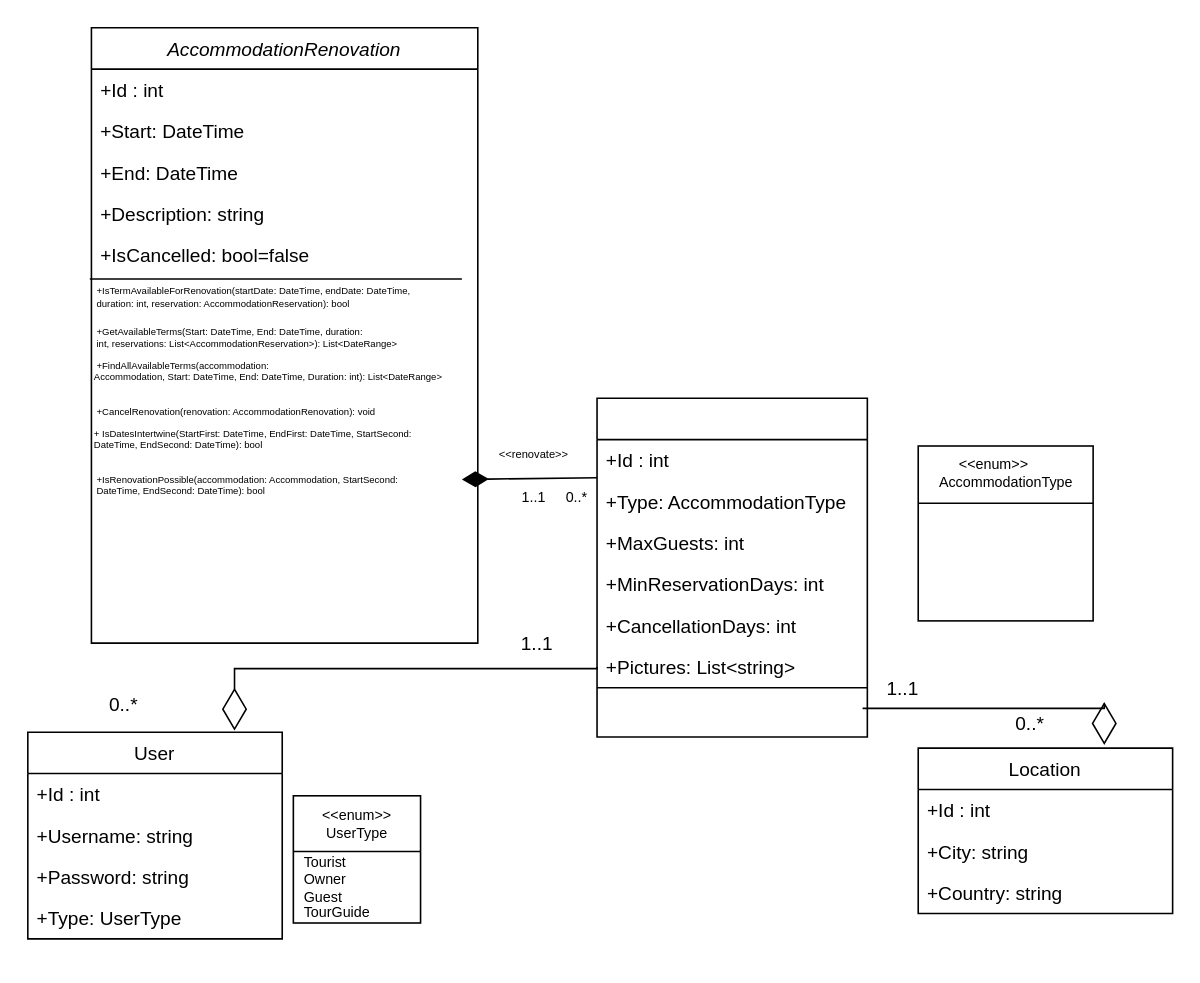
Some shapes in this 1200 by 983 pixel diagram are drawn without their labels. Here are the shapes that lost their labels. From the top down, the box of each, then its label:
(917, 444, 1093, 621): apartment house hut
(595, 397, 867, 737): Accommdoation
